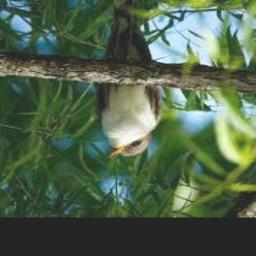Cuckoo: (98, 0, 162, 158)
